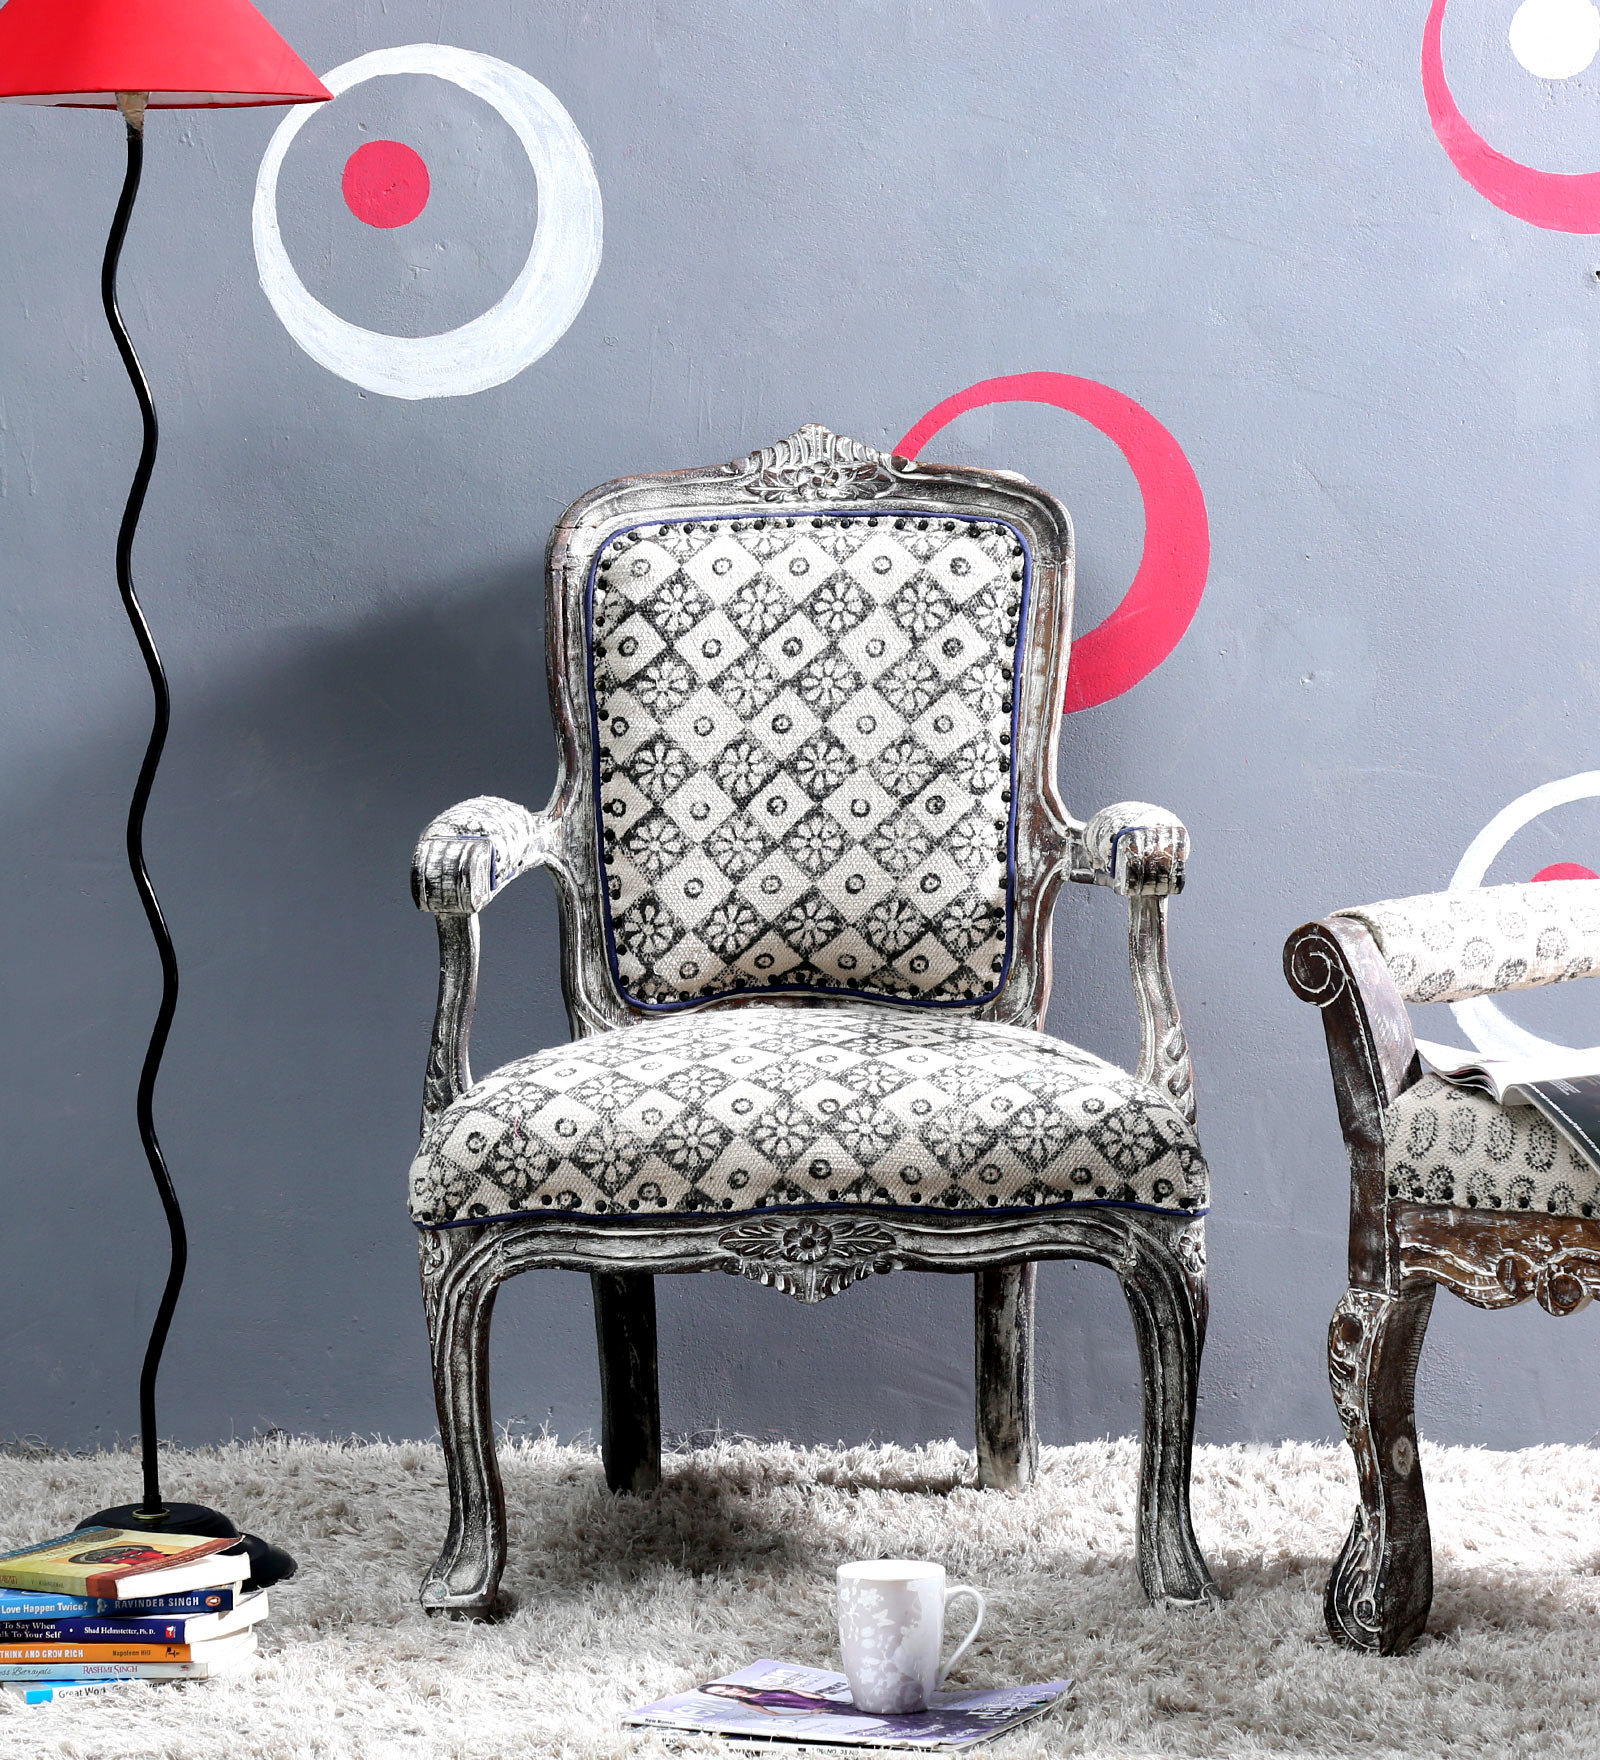Elton Arm Chair in Grey Colour by Bohemiana: (352, 417, 1297, 1657)
